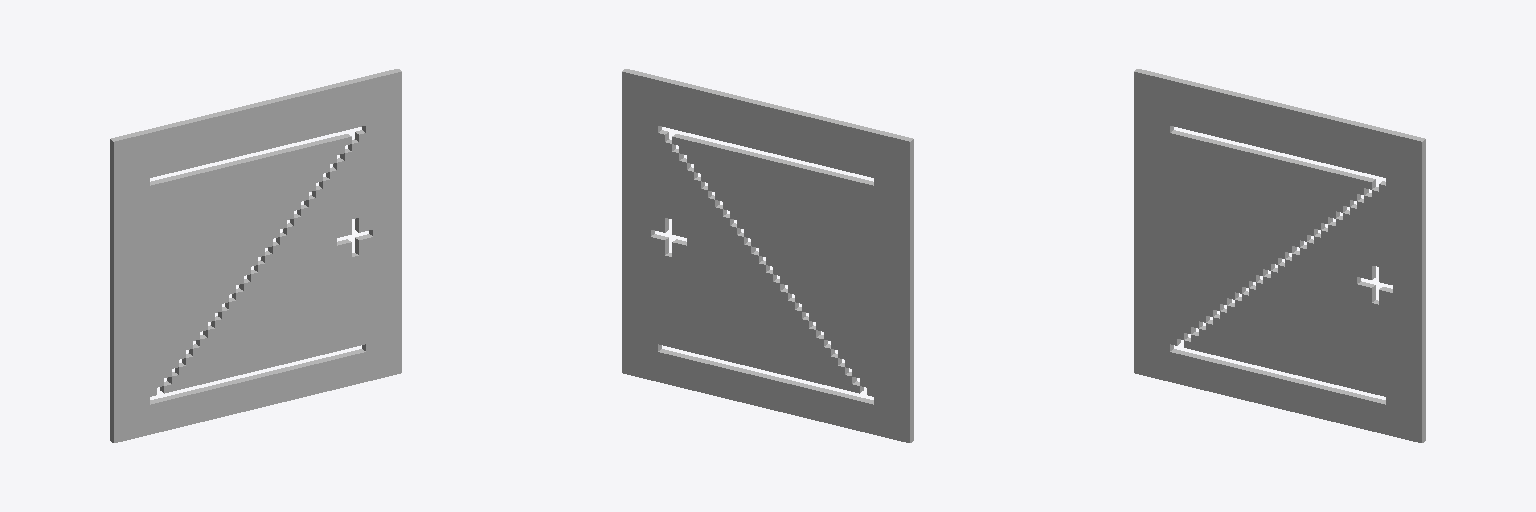
Rendered from Z positivo.obj.
3 views of the same model, side by side, from view 1: azimuth 30°, elevation 25°; view 2: azimuth 150°, elevation 25°; view 3: azimuth 330°, elevation 25° (orthographic).
Visible parts, largest first — view 1: object 1; view 2: object 1; view 3: object 1.
Part boxes in pixels (bbox=[...]): object 1: bbox=[110, 69, 401, 442]; object 1: bbox=[622, 69, 913, 442]; object 1: bbox=[1134, 69, 1425, 442].
Size of the model in its own units: 4 by 4 by 0.1.